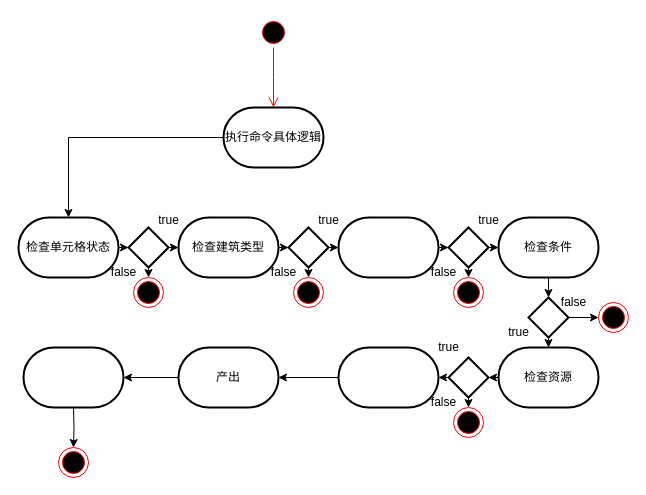
The diagram is 646 pixels wide and 495 high, and some of its shapes have lost their labels. The shapes that lost their labels are listed below. From the top down, each one's box as (x1, y1, x2, y2) in pixels, then its label:
(337, 216, 439, 278): 检查建筑上限
(22, 346, 124, 408): 改变单元格状态
(337, 346, 439, 408): 消耗资源
